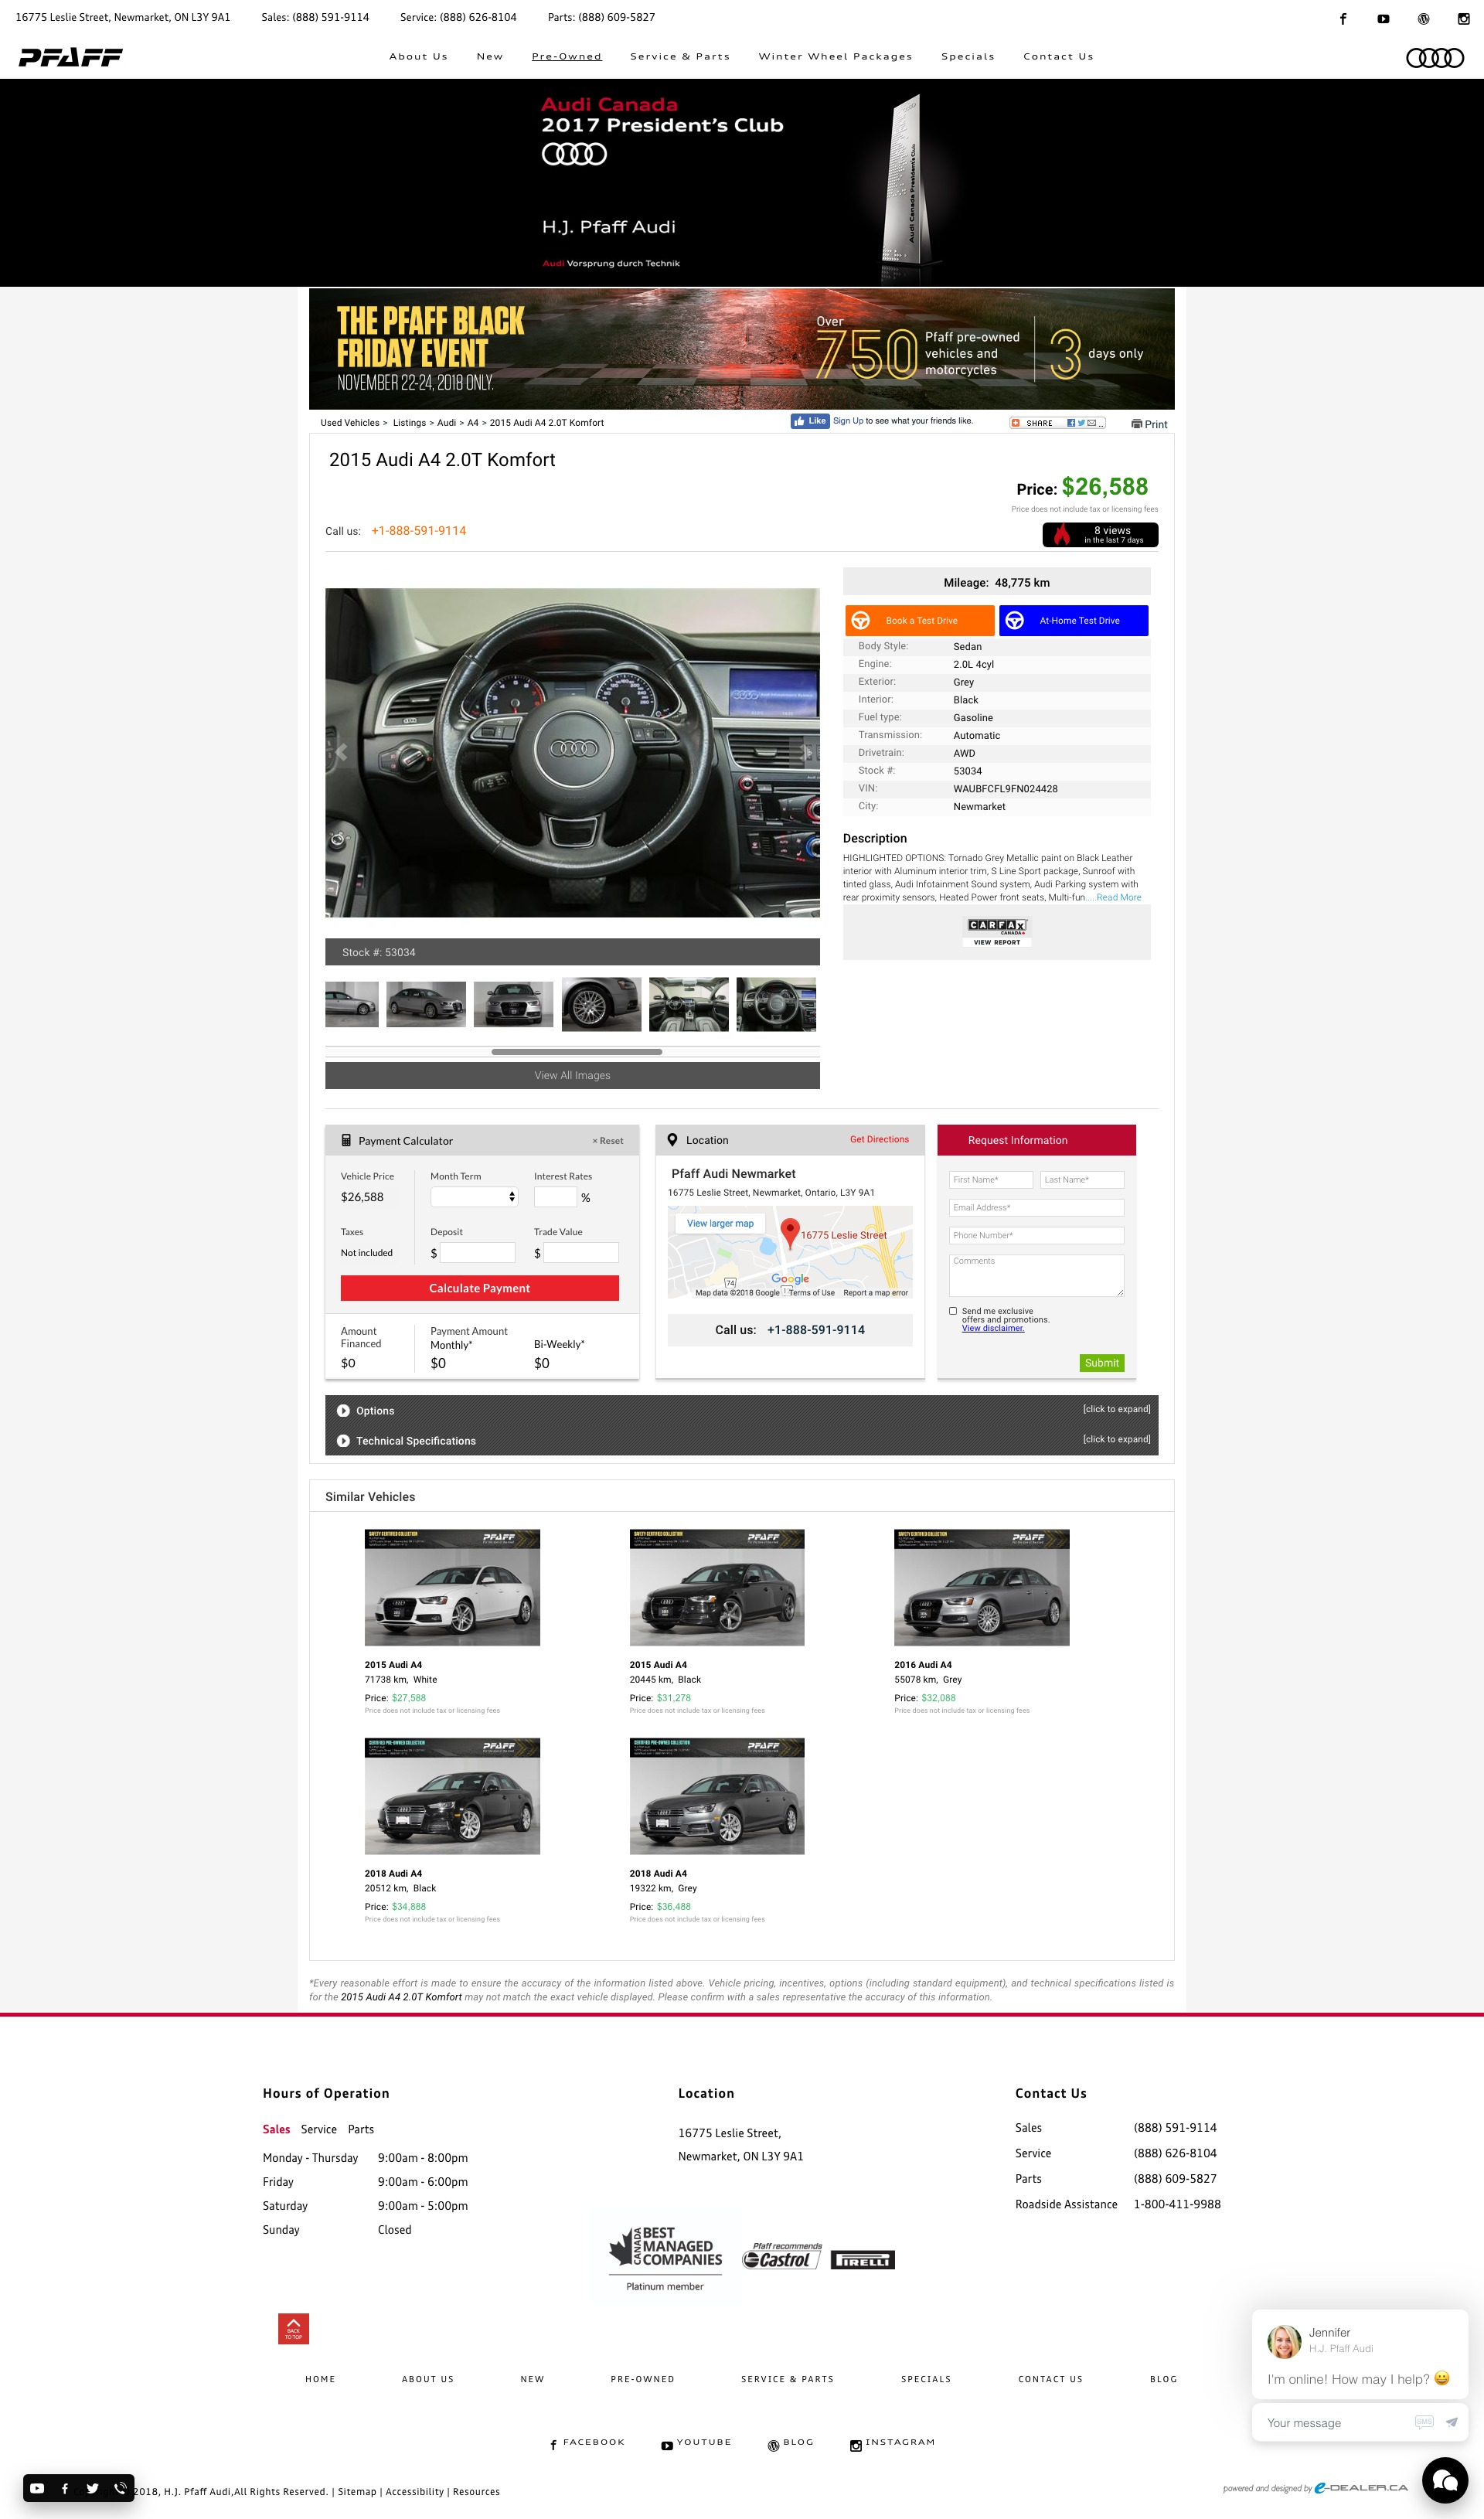car: (799, 744, 813, 761)
